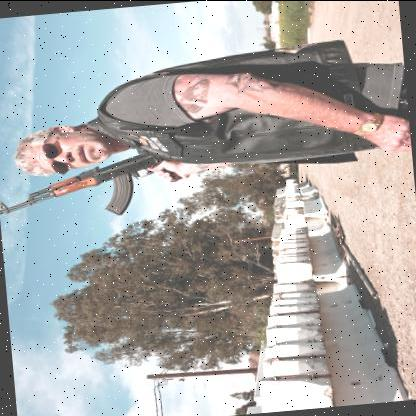rifle: (0, 138, 197, 227)
